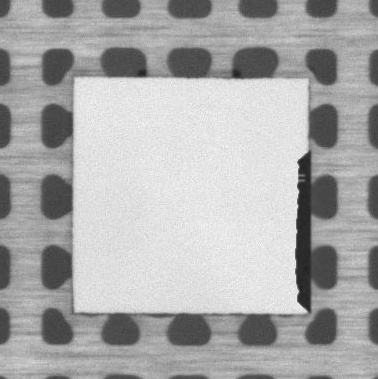DIE_BROKEN: (290, 150, 313, 316)
